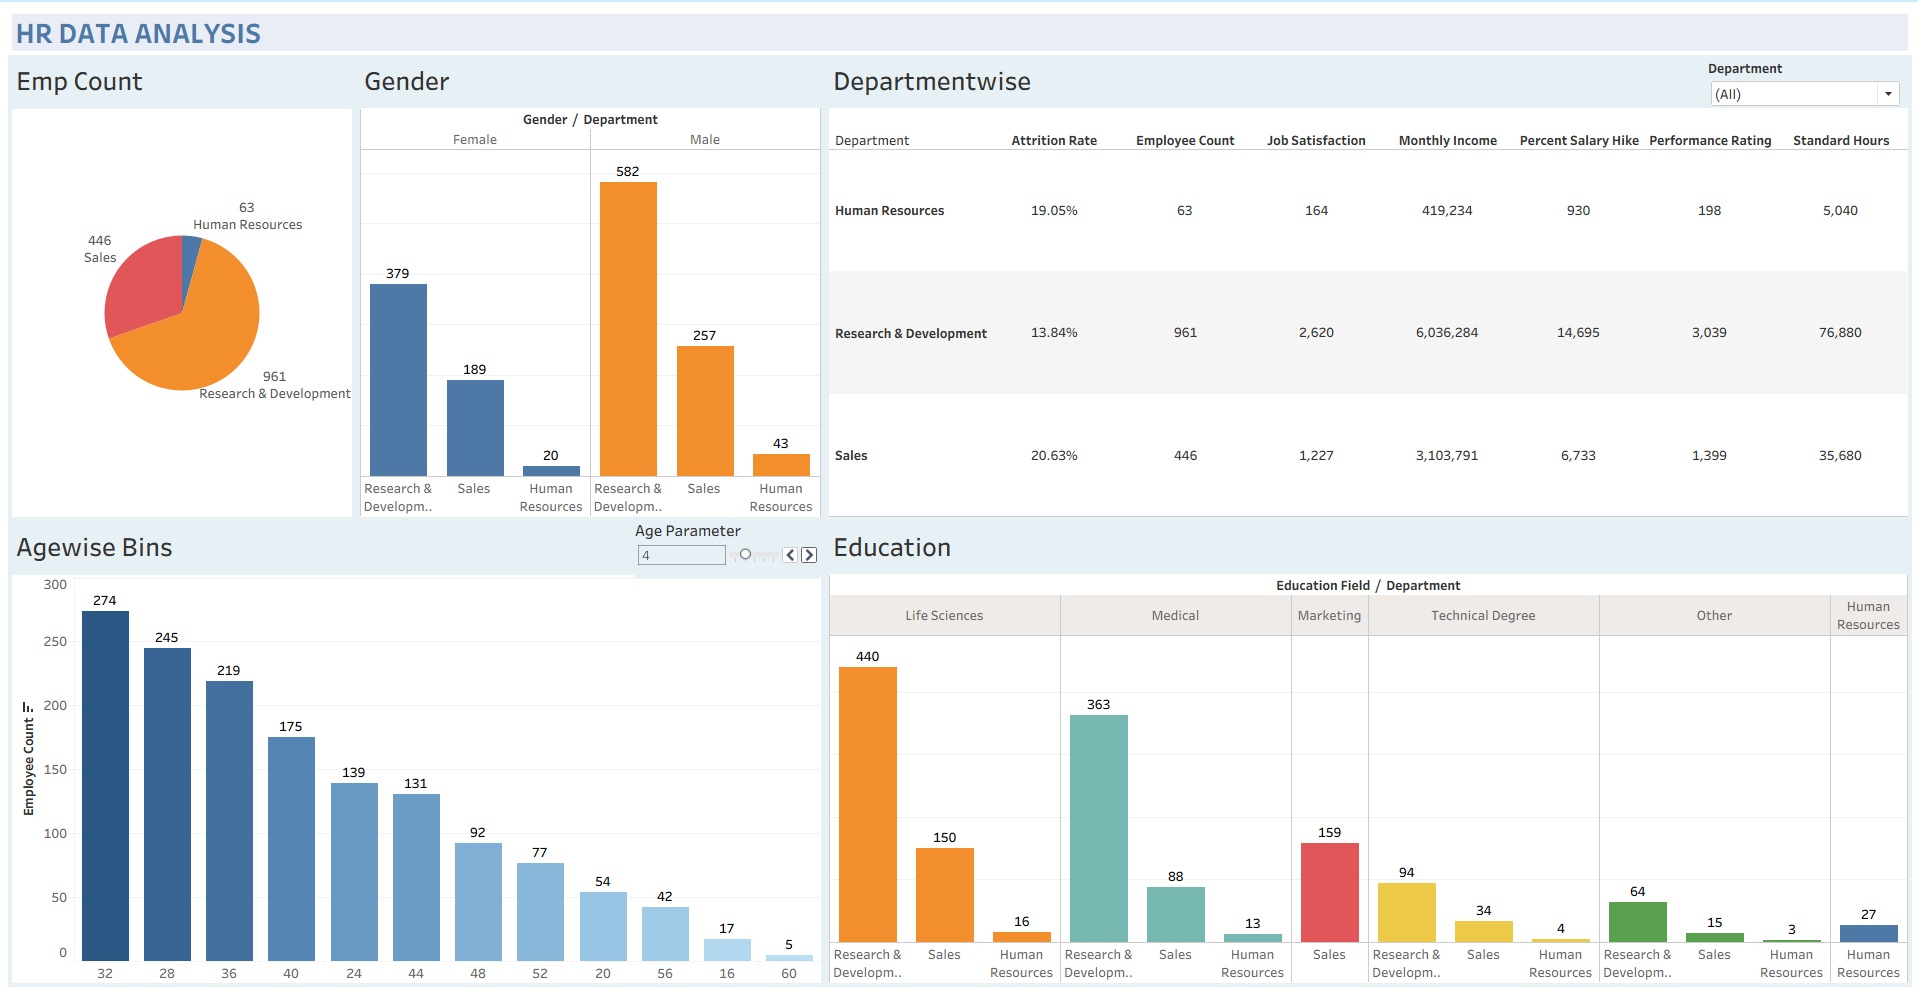

Layout of this report page (visuals, bound fields, positions):
{"tool":"tableau","page":{"name":"HR DATA ANALYSIS","canvas":[1000,1000],"units":"permille","ordinal":0},"visuals":[{"type":"text","box":[4.8,10,990.3,45.2]},{"type":"worksheet","title":"Emp Count","mark":"Pie","box":[4.8,55.2,181,467.3]},{"type":"worksheet","title":"Gender","mark":"Automatic","rows":["EmployeeCount"],"cols":["Gender","Department"],"box":[185.8,55.2,243.8,467.3]},{"type":"worksheet","title":"Departmentwise","mark":"Automatic","rows":["Department"],"box":[429.7,55.2,565.5,467.3]},{"type":"filter","title":"Departmentwise","param":"[federated.18xk7pm0mds5is1ad82sr04rpe3g].[none:Department:nk]","box":[889.6,57.4,101.4,56.2]},{"type":"parameter","param":"[Parameters].[Parameter 1]","box":[330.7,521.9,96.6,58.7]},{"type":"worksheet","title":"Agewise Bins","mark":"Automatic","rows":["EmployeeCount"],"cols":["Age (bin)"],"box":[4.8,522.5,424.8,467.5]},{"type":"worksheet","title":"Education","mark":"Automatic","rows":["EmployeeCount"],"cols":["EducationField","Department"],"box":[429.7,522.5,565.5,467.5]}]}

Visuals, with their boxes on the dashboard's canvas, which has no fixed pixel size, in thousandths of its width and height (x1, y1, x2, y2). These are canvas units, not pixel positions in the 1918x992 screenshot, which may show the page scaled, cropped or inside an application window:
text: [5, 10, 995, 55]
"Emp Count" worksheet (Pie marks): [5, 55, 186, 522]
"Gender" worksheet: [186, 55, 430, 522]
"Departmentwise" worksheet: [430, 55, 995, 522]
"Departmentwise" filter: [890, 57, 991, 114]
parameter: [331, 522, 427, 581]
"Agewise Bins" worksheet: [5, 522, 430, 990]
"Education" worksheet: [430, 522, 995, 990]
